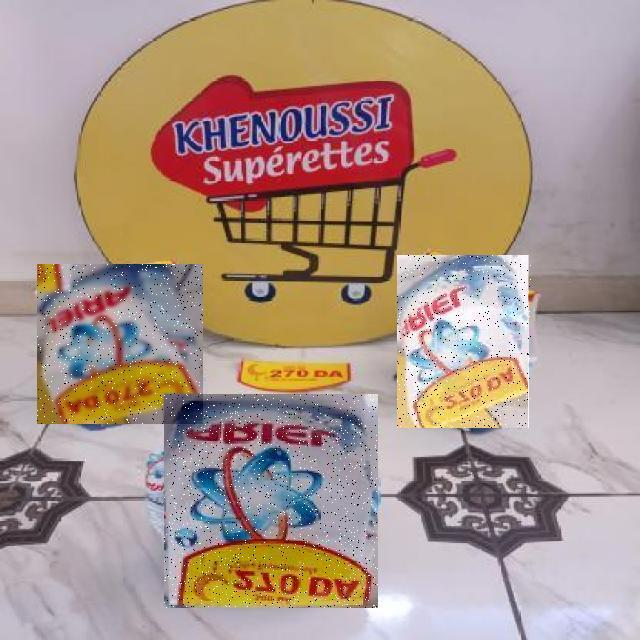Detergent: (164, 394, 378, 608), (37, 264, 203, 424), (398, 255, 532, 428)
